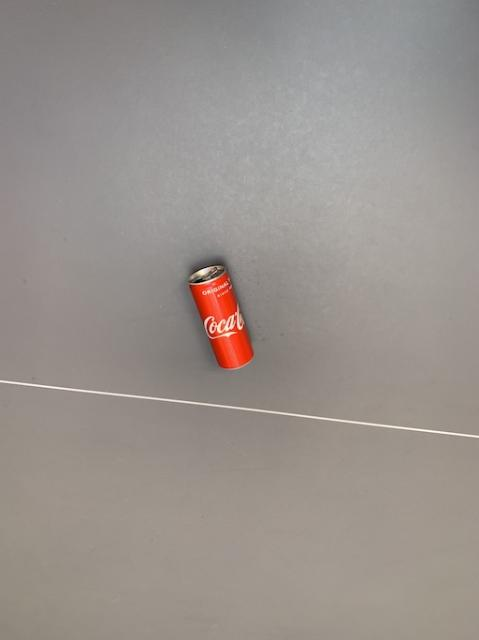metal: (187, 264, 252, 367)
